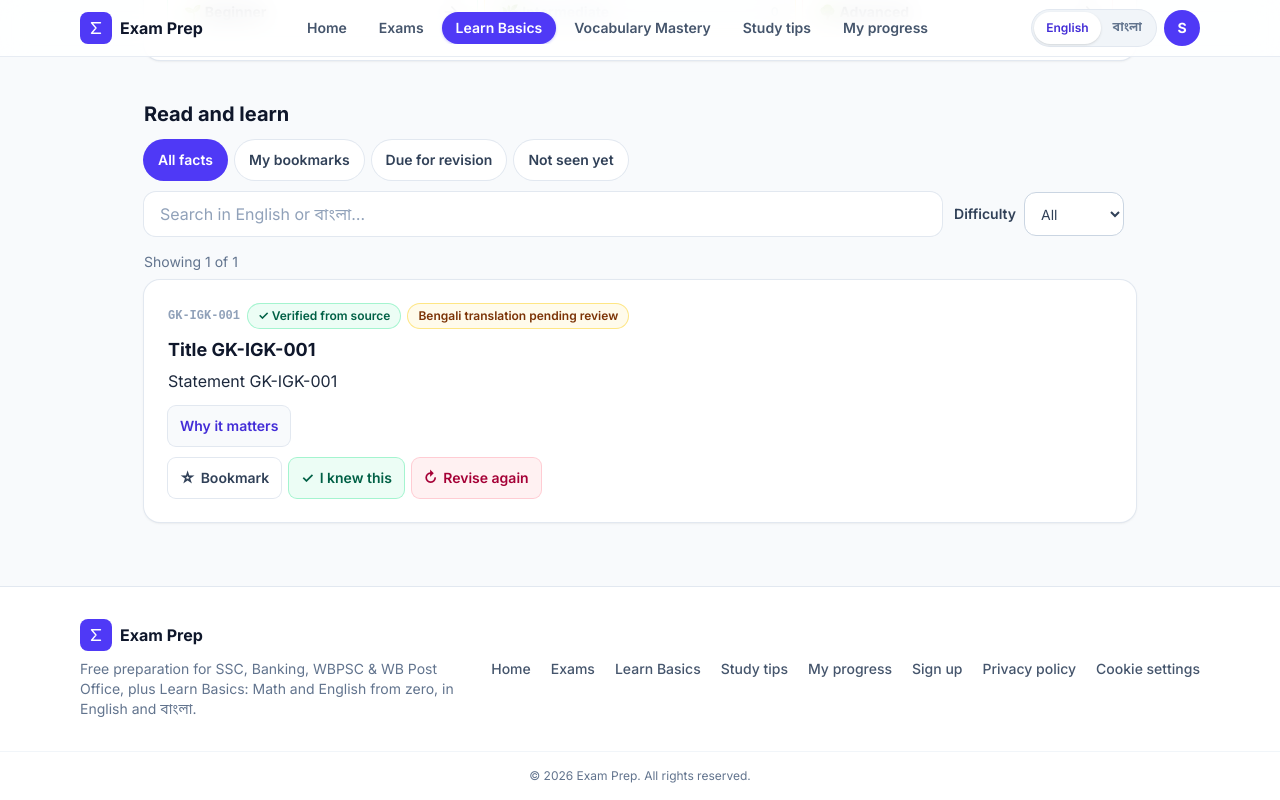
it: Indian GK expansion › a signed-in student bookmarks and revises a fact; progress shows completed of total
(page scrolled)
Click the button "☆ Bookmark". click: (225, 478)
box: left=168, top=458, right=281, bottom=498
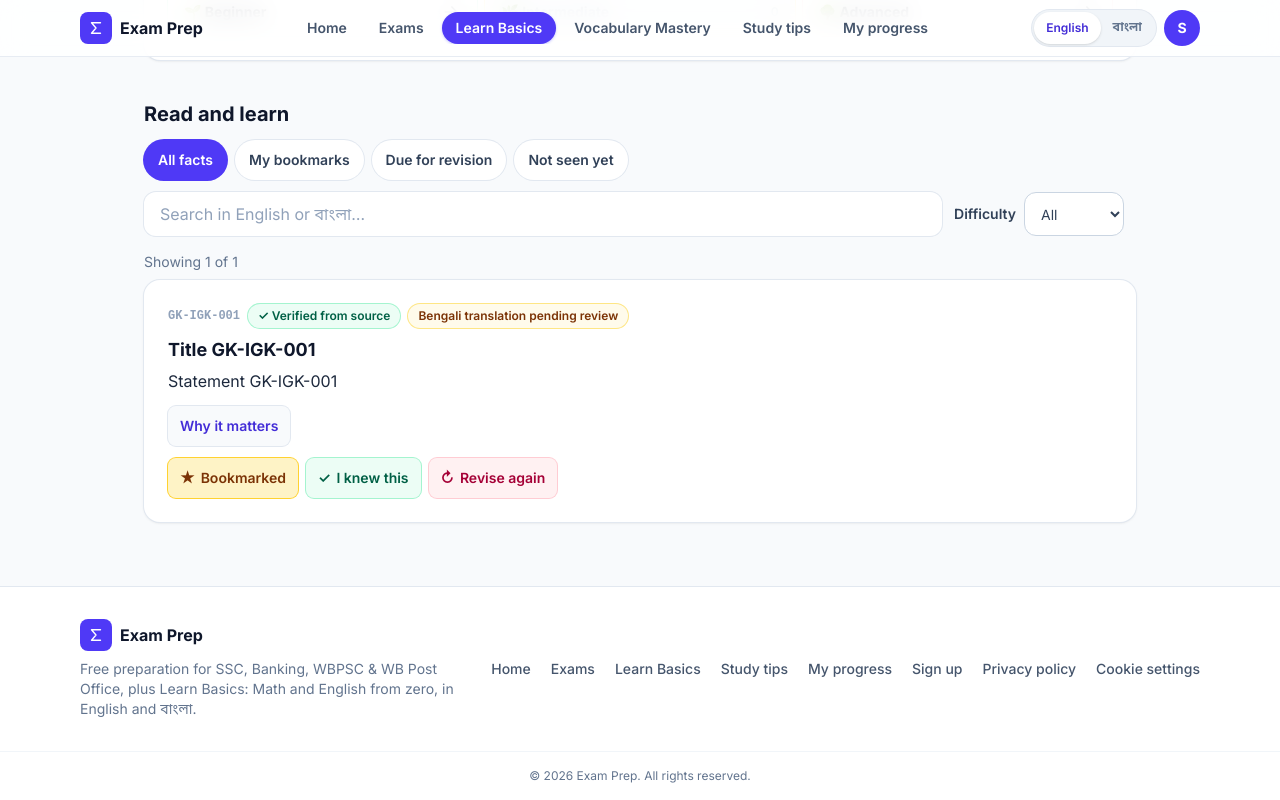
Result: the button "★ Bookmarked" is pressed at left=168, top=458, right=298, bottom=498
Click the button "✓ I knew this". click: (363, 478)
box: left=306, top=458, right=421, bottom=498
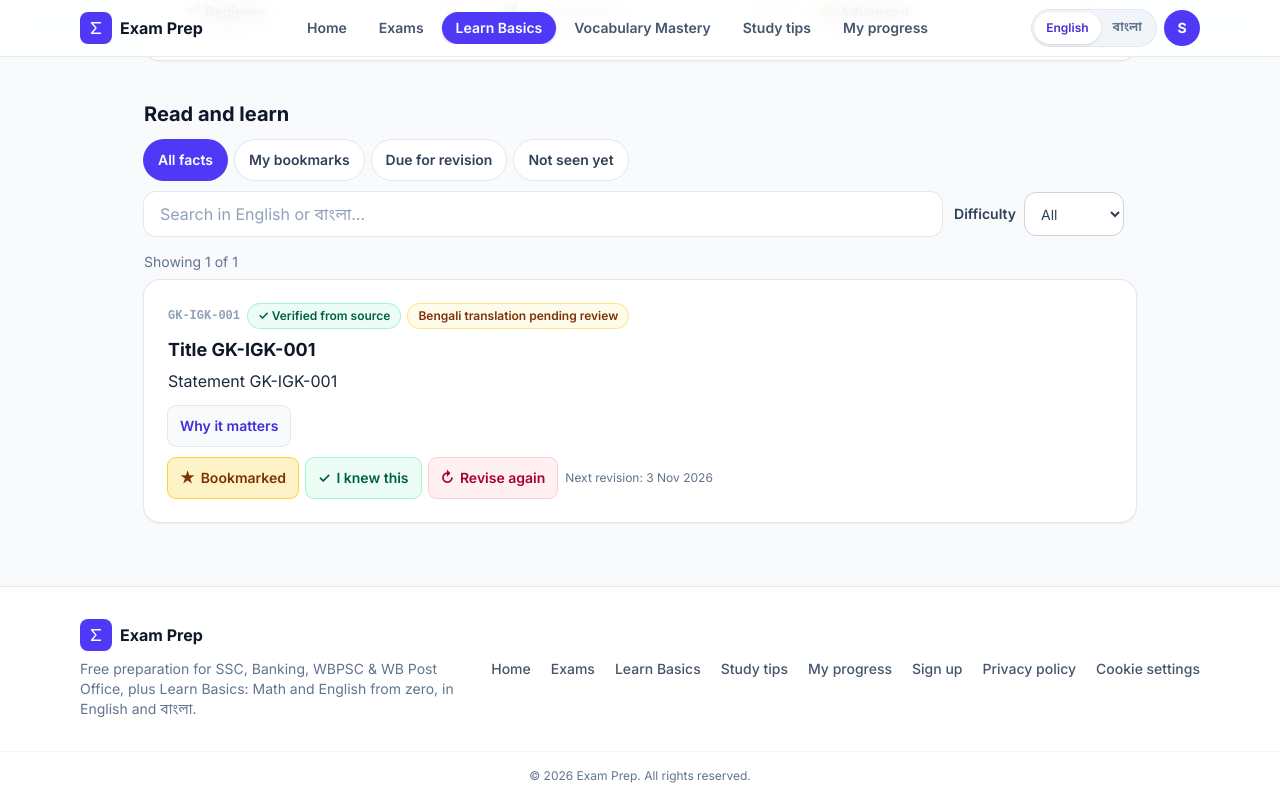
Result: the text "Next revision: 3 Nov 2026" is shown at left=565, top=470, right=713, bottom=486
